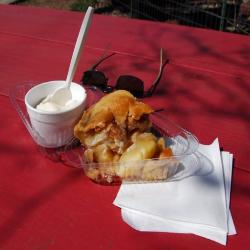apple_pie: (70, 90, 186, 186)
chantilly: (28, 85, 80, 119)
